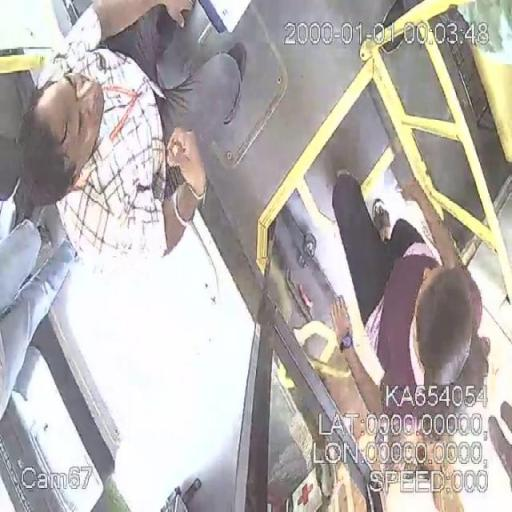persona: (10, 1, 248, 269), (326, 168, 493, 510)
